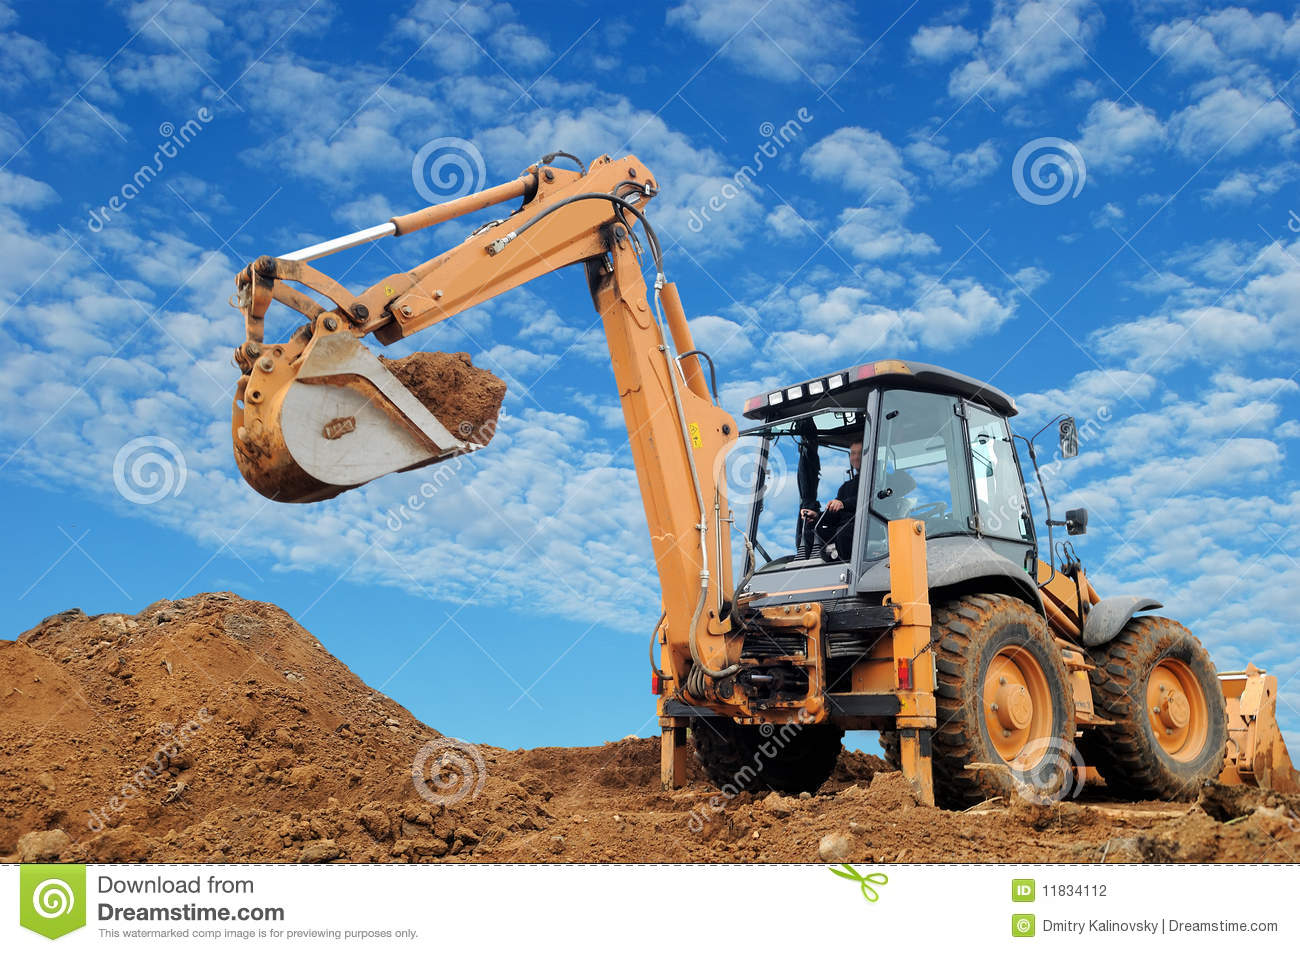backhoe: (235, 152, 1294, 813)
